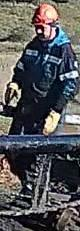gloves: (42, 109, 61, 136), (4, 81, 19, 104)
helmet: (31, 2, 60, 27)
vest: (21, 37, 78, 114)
